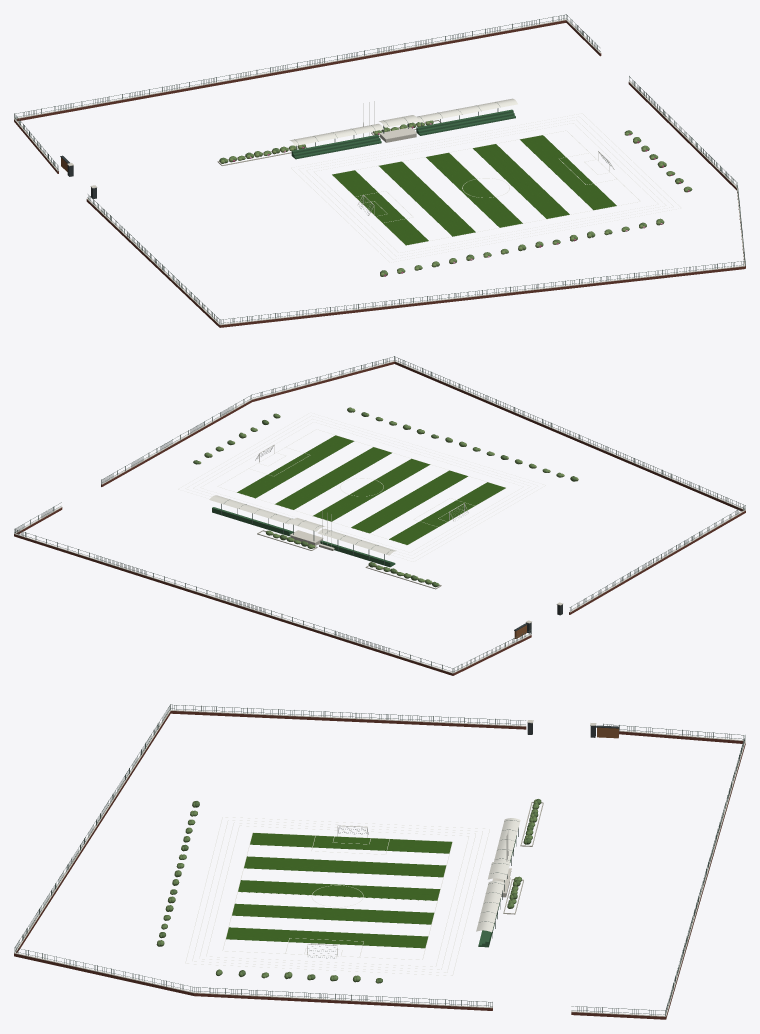
3 views of the same model, one above another, from view 1: azimuth 30°, elevation 25°; view 2: azimuth 150°, elevation 25°; view 3: azimuth 270°, elevation 25° (orthographic). The views are drawn at different scales.
Parts seen in each view (by area): view 1: prop_field-lines, prop_boundary-fence, prop_stand-canopy, prop_flowerbeds, prop_running-track; view 2: prop_boundary-fence, prop_field-lines, prop_stand-canopy, prop_flowerbeds, prop_running-track; view 3: prop_field-lines, prop_boundary-fence, prop_stand-canopy, prop_flowerbeds, prop_running-track.
Boxes of the visible parts, bbox=[...] form: prop_field-lines: bbox=[331, 130, 640, 245]; prop_boundary-fence: bbox=[14, 14, 745, 327]; prop_stand-canopy: bbox=[289, 98, 517, 159]; prop_flowerbeds: bbox=[217, 120, 692, 276]; prop_running-track: bbox=[291, 113, 680, 262]; prop_boundary-fence: bbox=[14, 356, 745, 675]; prop_field-lines: bbox=[217, 429, 506, 545]; prop_stand-canopy: bbox=[209, 495, 396, 567]; prop_flowerbeds: bbox=[193, 407, 578, 589]; prop_running-track: bbox=[178, 413, 545, 561]; prop_field-lines: bbox=[222, 832, 452, 959]; prop_boundary-fence: bbox=[14, 704, 745, 1019]; prop_stand-canopy: bbox=[476, 818, 520, 947]; prop_flowerbeds: bbox=[156, 799, 543, 983]; prop_running-track: bbox=[185, 817, 489, 975].
Bounding box in the file's own units: 126 × 8.2 × 127.
15 materials, 1 textured.
